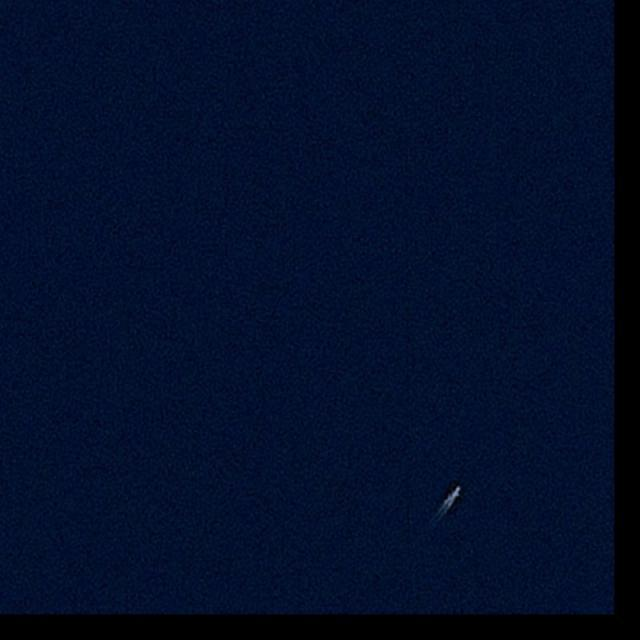ship: (452, 486, 462, 498)
